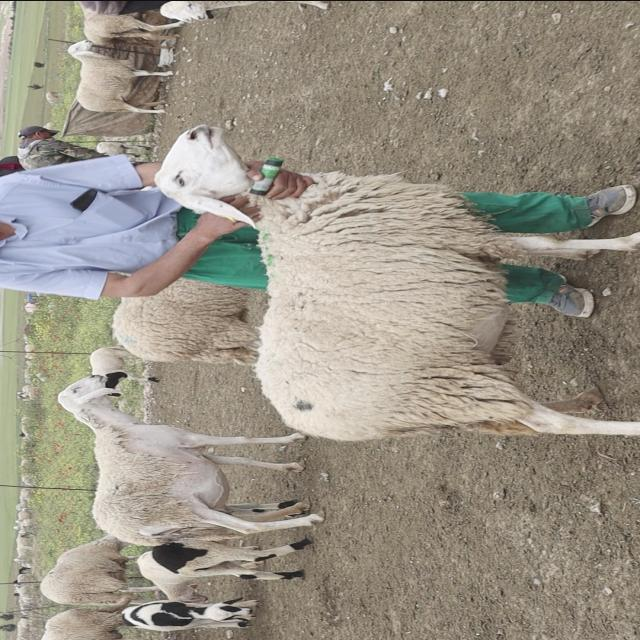Score_5: (155, 124, 639, 440)
